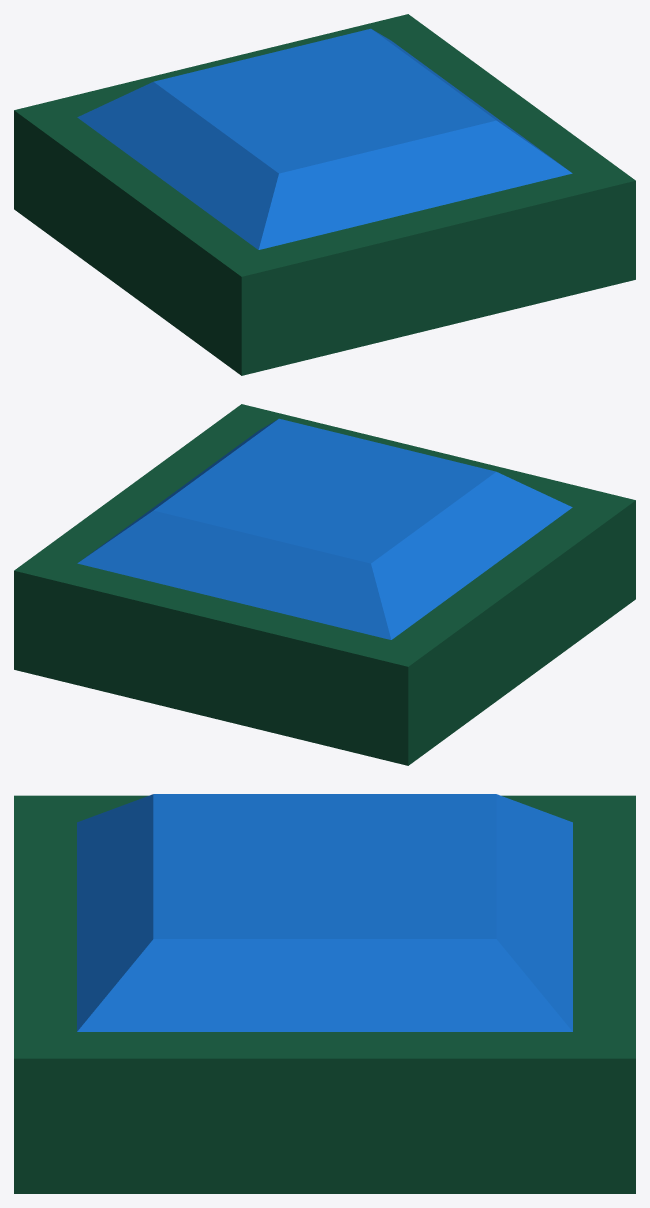
Rendered from T_industrial_ceiling_lamp2.fbx.
The picture shows the model from 3 angles, top to bottom: view 1: azimuth 30°, elevation 25°; view 2: azimuth 150°, elevation 25°; view 3: azimuth 270°, elevation 25°; orthographic projection. The views are drawn at different scales.
Parts seen in each view (by area): view 1: industrial_ceiling_lamp2; view 2: industrial_ceiling_lamp2; view 3: industrial_ceiling_lamp2.
Part boxes in pixels (<box>): industrial_ceiling_lamp2: <box>14,14,635,375</box>; industrial_ceiling_lamp2: <box>14,404,635,765</box>; industrial_ceiling_lamp2: <box>14,794,635,1193</box>.
Bounding box in the file's own units: 10 × 3.47 × 10.
